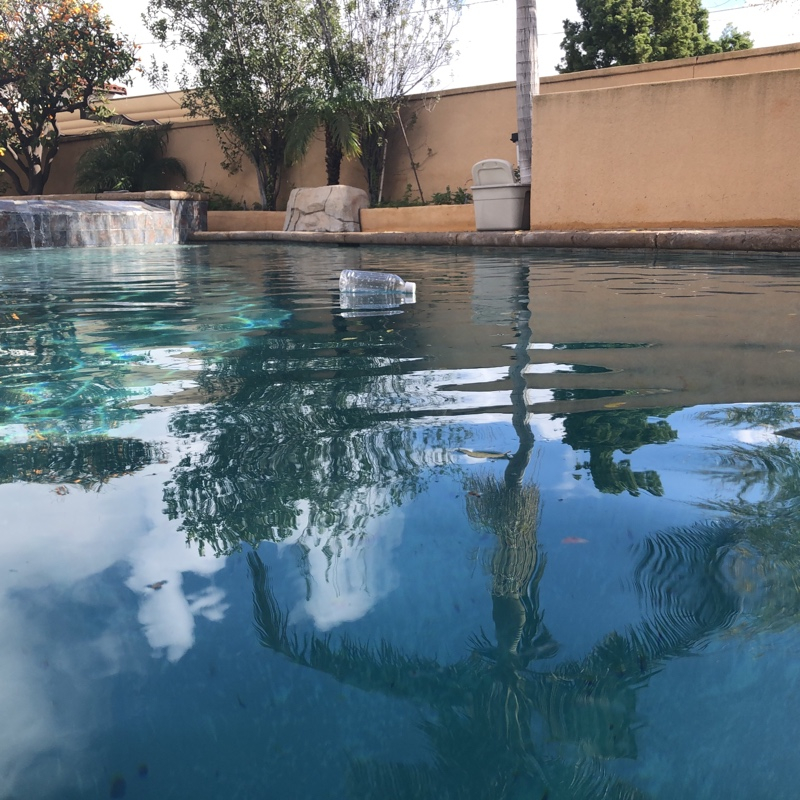Plastic Bottle: (336, 268, 418, 299)
